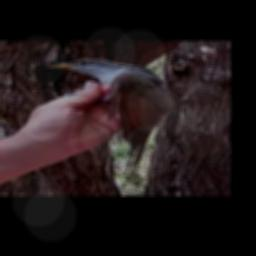Cuckoo: (46, 59, 174, 183)
